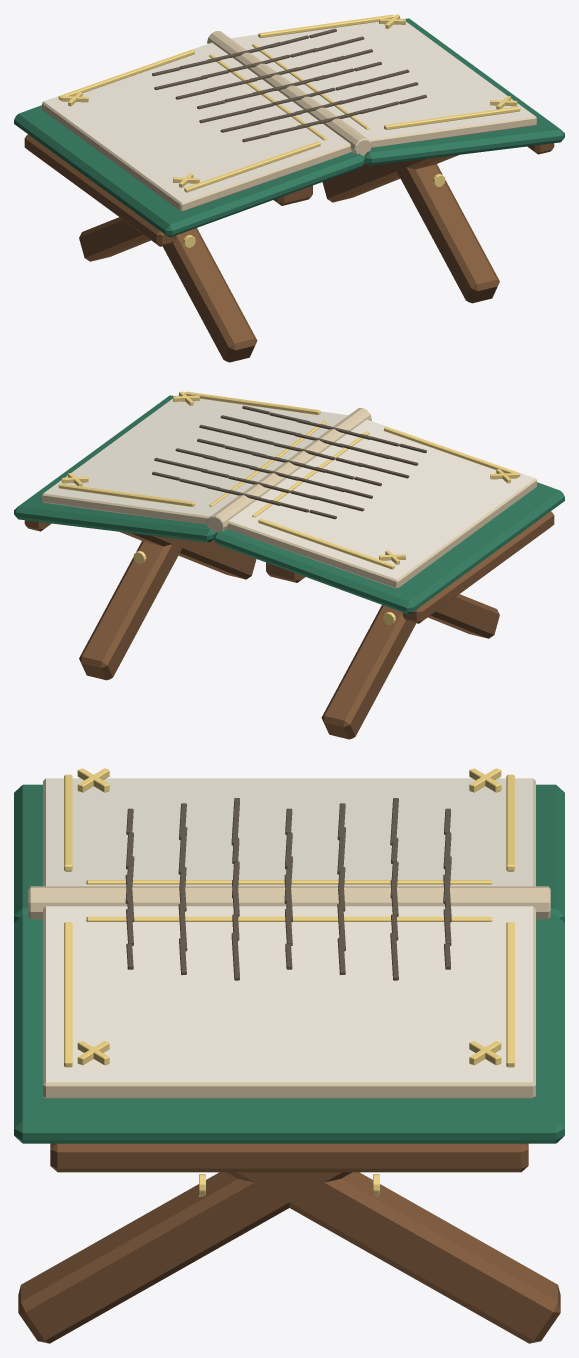
Rendered from quran.glb.
The picture shows the model from 3 angles, top to bottom: view 1: azimuth 30°, elevation 25°; view 2: azimuth 150°, elevation 25°; view 3: azimuth 270°, elevation 25°; orthographic projection. The views are drawn at different scales.
Parts seen in each view (by area): view 1: Quran_Left_Open_Page, Quran_Right_Open_Page, Quran_Left_Green_Cover, Rehal_Cross_Board_A.001, Rehal_Cross_Board_A, Quran_Right_Green_Cover, Quran_Center_Spine_Ridge, Rehal_Top_Rail_Left, Rehal_Cross_Board_B.001, Rehal_Cross_Board_B, Quran_Gold_Page_Border_Long_A, Quran_Gold_Page_Border_Long_B (+4 smaller); view 2: Quran_Left_Open_Page, Quran_Right_Open_Page, Quran_Left_Green_Cover, Rehal_Cross_Board_B.001, Rehal_Cross_Board_B, Quran_Right_Green_Cover, Quran_Center_Spine_Ridge, Rehal_Top_Rail_Left, Rehal_Cross_Board_A.001, Rehal_Cross_Board_A, Quran_Gold_Page_Border_Long_B, Quran_Gold_Page_Border_Long_A (+4 smaller); view 3: Quran_Right_Open_Page, Quran_Left_Open_Page, Quran_Right_Green_Cover, Rehal_Cross_Board_A.001, Rehal_Cross_Board_B.001, Rehal_Top_Rail_Right, Quran_Center_Spine_Ridge, Quran_Left_Green_Cover, Quran_Gold_Page_Border_Side_Inner.001, Quran_Gold_Page_Border_Side_Inner, Quran_Gold_Page_Border_Long_A.001, Quran_Gold_Page_Border_Long_B.001 (+2 smaller).
Part boxes in pixels (left/top/right/bottom): Quran_Left_Open_Page: left=42, top=42, right=351, bottom=211; Quran_Right_Open_Page: left=231, top=15, right=536, bottom=147; Quran_Left_Green_Cover: left=14, top=105, right=365, bottom=237; Rehal_Cross_Board_A.001: left=394, top=164, right=499, bottom=303; Rehal_Cross_Board_A: left=163, top=228, right=257, bottom=362; Quran_Right_Green_Cover: left=364, top=18, right=564, bottom=165; Quran_Center_Spine_Ridge: left=207, top=31, right=371, bottom=156; Rehal_Top_Rail_Left: left=24, top=134, right=176, bottom=246; Rehal_Cross_Board_B.001: left=322, top=155, right=458, bottom=202; Rehal_Cross_Board_B: left=79, top=217, right=150, bottom=261; Quran_Gold_Page_Border_Long_A: left=184, top=141, right=320, bottom=192; Quran_Gold_Page_Border_Long_B: left=58, top=49, right=194, bottom=100; Quran_Left_Open_Page: left=227, top=419, right=536, bottom=588; Quran_Right_Open_Page: left=42, top=392, right=347, bottom=524; Quran_Left_Green_Cover: left=213, top=482, right=564, bottom=614; Rehal_Cross_Board_B.001: left=79, top=538, right=186, bottom=680; Rehal_Cross_Board_B: left=321, top=605, right=415, bottom=739; Quran_Right_Green_Cover: left=14, top=395, right=214, bottom=542; Quran_Center_Spine_Ridge: left=207, top=408, right=371, bottom=533; Rehal_Top_Rail_Left: left=402, top=511, right=554, bottom=623; Rehal_Cross_Board_A.001: left=120, top=532, right=256, bottom=579; Rehal_Cross_Board_A: left=428, top=594, right=499, bottom=638; Quran_Gold_Page_Border_Long_B: left=258, top=518, right=394, bottom=569; Quran_Gold_Page_Border_Long_A: left=384, top=426, right=520, bottom=477; Quran_Right_Open_Page: left=43, top=906, right=535, bottom=1098; Quran_Left_Open_Page: left=43, top=778, right=535, bottom=886; Quran_Right_Green_Cover: left=14, top=915, right=564, bottom=1143; Rehal_Cross_Board_A.001: left=18, top=1172, right=351, bottom=1343; Rehal_Cross_Board_B.001: left=227, top=1172, right=560, bottom=1343; Rehal_Top_Rail_Right: left=50, top=1143, right=528, bottom=1172; Quran_Center_Spine_Ridge: left=28, top=886, right=550, bottom=919; Quran_Left_Green_Cover: left=14, top=784, right=564, bottom=922; Quran_Gold_Page_Border_Side_Inner.001: left=86, top=916, right=492, bottom=921; Quran_Gold_Page_Border_Side_Inner: left=86, top=880, right=492, bottom=884; Quran_Gold_Page_Border_Long_A.001: left=64, top=922, right=72, bottom=1067; Quran_Gold_Page_Border_Long_B.001: left=506, top=922, right=514, bottom=1067.
Size of what is drawn, in the model's own units: 1.12 by 0.5231 by 0.76.
